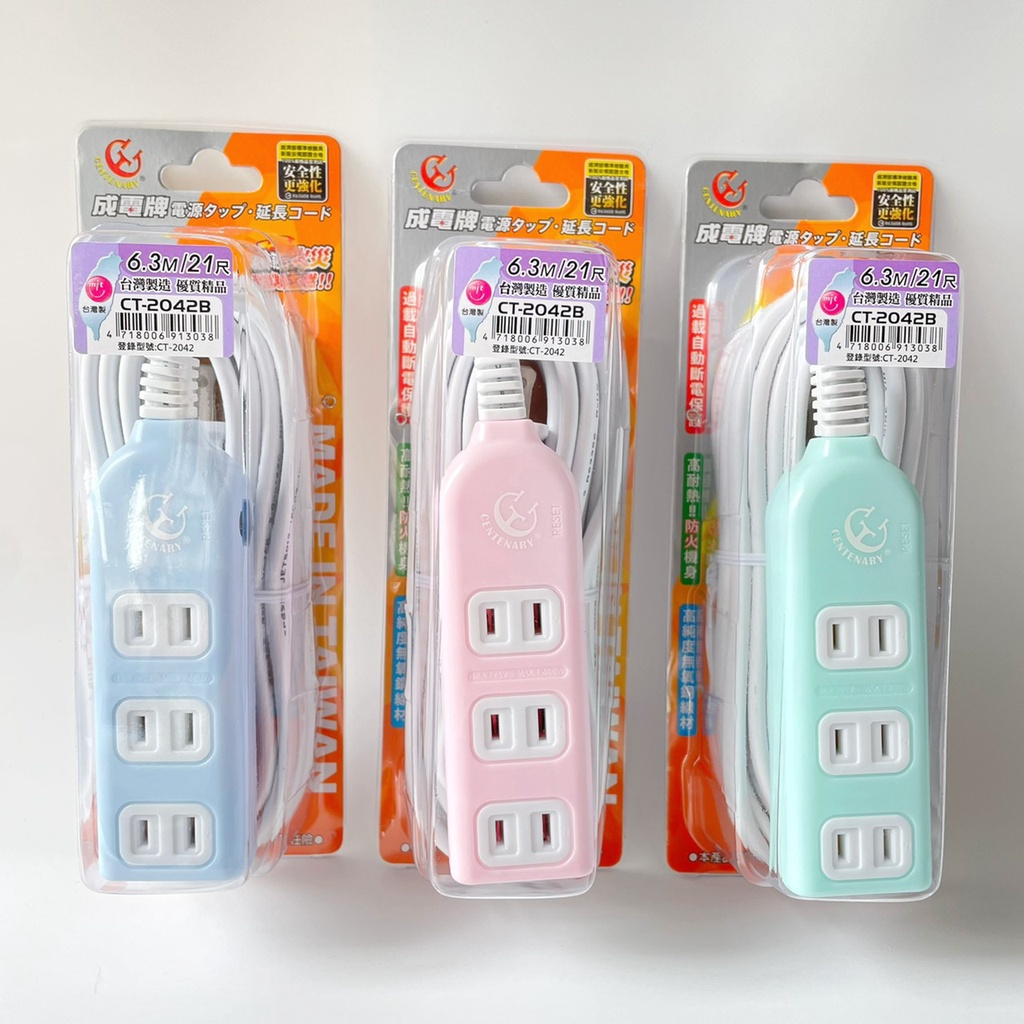socket: (769, 372, 937, 900), (97, 351, 249, 885), (441, 362, 587, 889)
